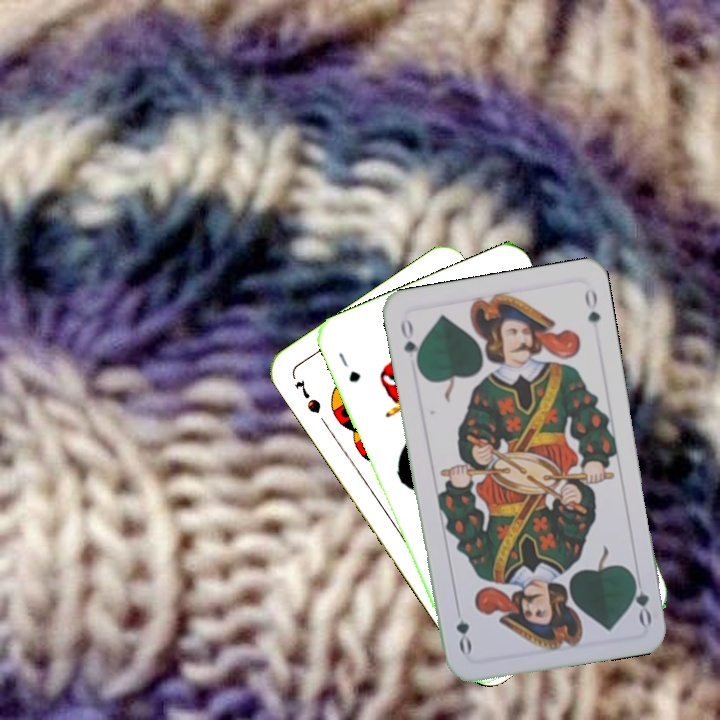GO: (627, 568, 655, 628), (396, 314, 423, 372)
GU: (334, 348, 363, 385)
S7: (290, 376, 324, 416)
